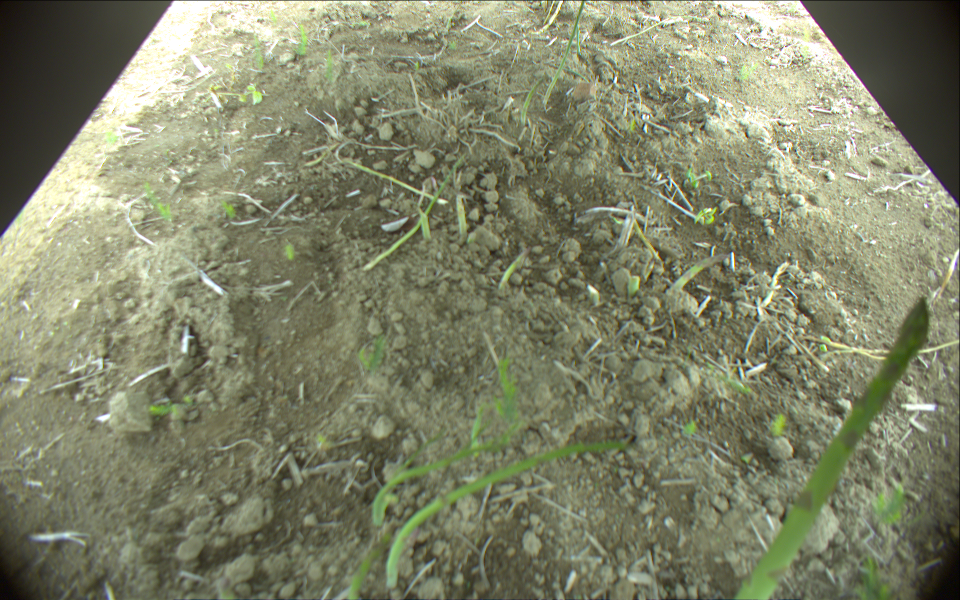aspa: (732, 294, 931, 600), (384, 438, 629, 591), (370, 436, 519, 525), (361, 152, 465, 271), (333, 141, 444, 206), (544, 1, 584, 105), (349, 527, 394, 600), (521, 76, 543, 122), (455, 196, 469, 236), (419, 209, 431, 240)
